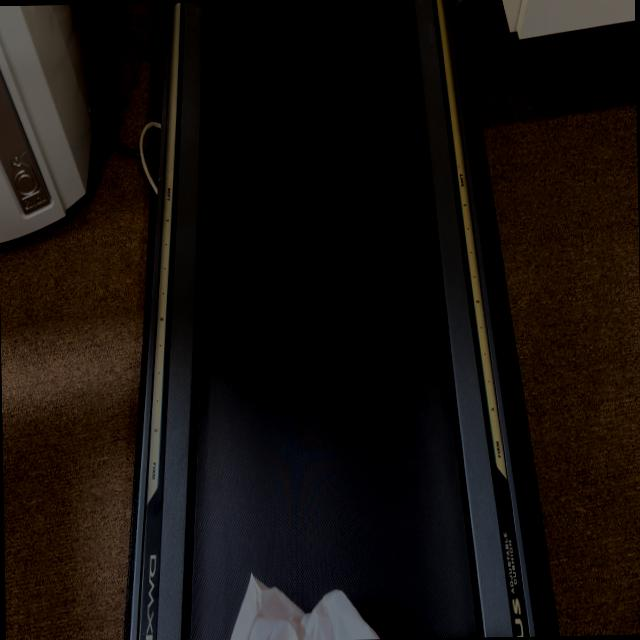Recycle: (228, 566, 394, 639)
